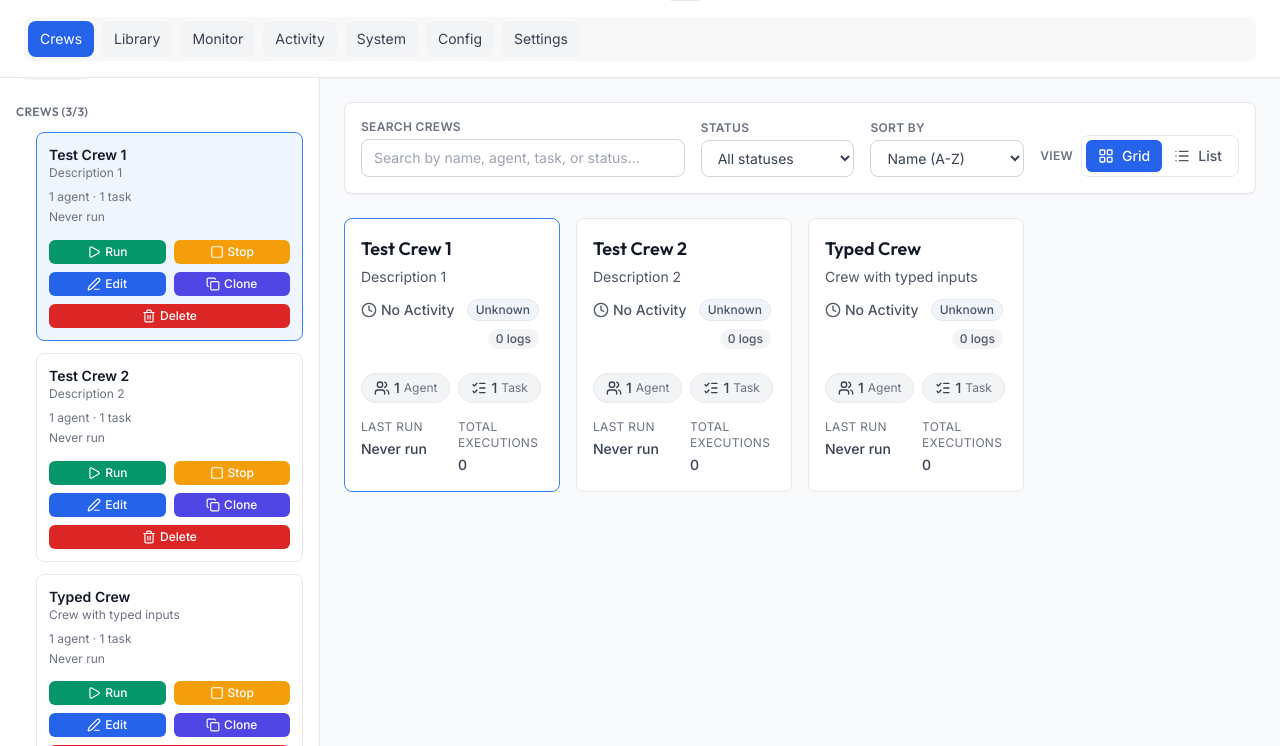
Test: CrewAIManager - Comprehensive Test Suite › Crew input metadata handling › renders appropriate controls for typed metadata inputs
(page scrolled)
Expected: the text "Test Crew 1" is shown, [49, 146, 126, 163]
Expected: the text "Test Crew 2" is shown, [49, 367, 129, 384]
Step 1. Click the text "Typed Crew" → click(90, 596), box [49, 588, 130, 604]
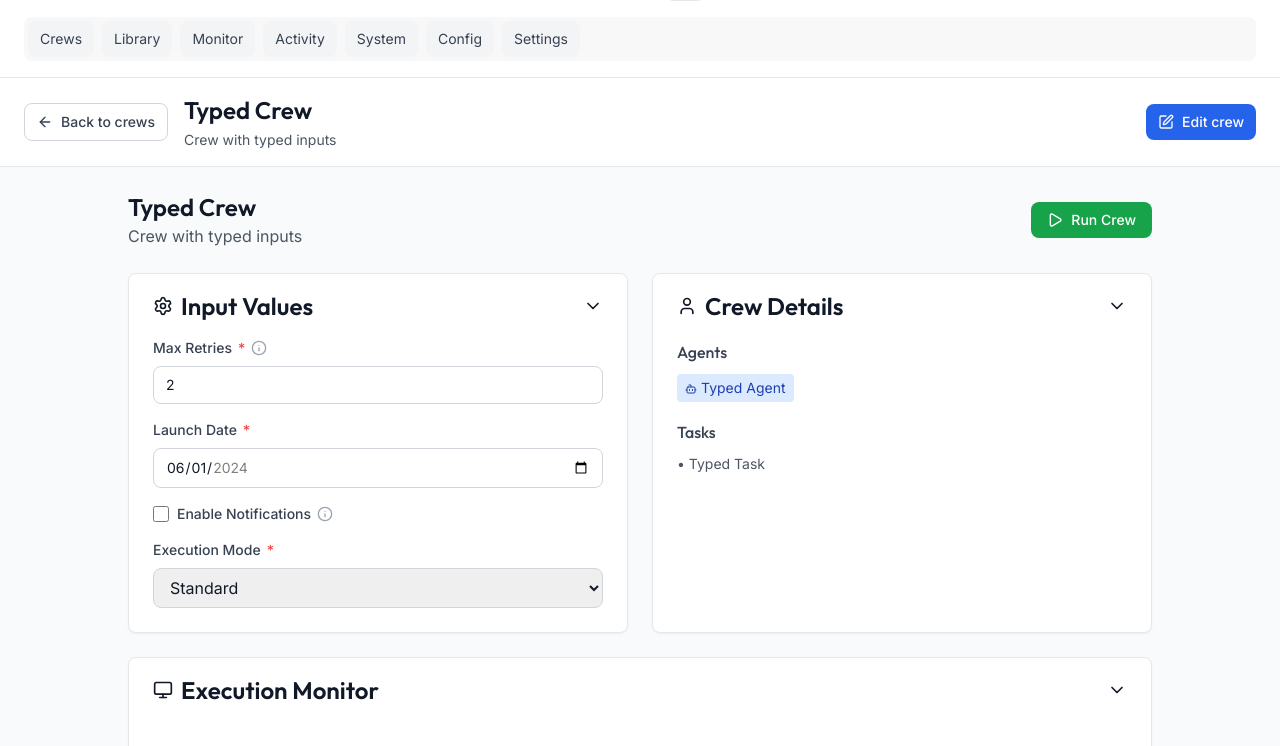
Result: the number field labelled "Max Retries *" is shown at [153, 366, 603, 404]
Result: the checkbox labelled "Enable Notifications" is shown at [153, 506, 169, 522]
